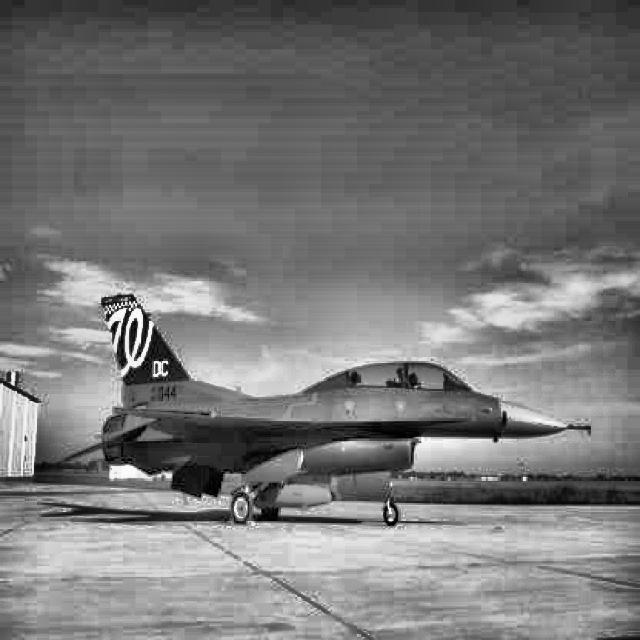F16: (57, 293, 592, 527)
